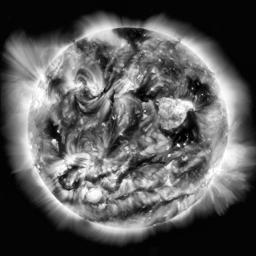solar flares: (160, 98, 188, 124), (61, 76, 80, 93), (55, 156, 81, 168), (86, 82, 104, 96), (35, 93, 45, 108)
sunspots: (165, 120, 200, 141), (116, 28, 145, 45), (49, 122, 65, 152), (191, 80, 210, 103), (126, 114, 145, 135), (95, 50, 109, 71), (138, 88, 151, 102), (131, 160, 154, 167), (134, 207, 153, 215)
